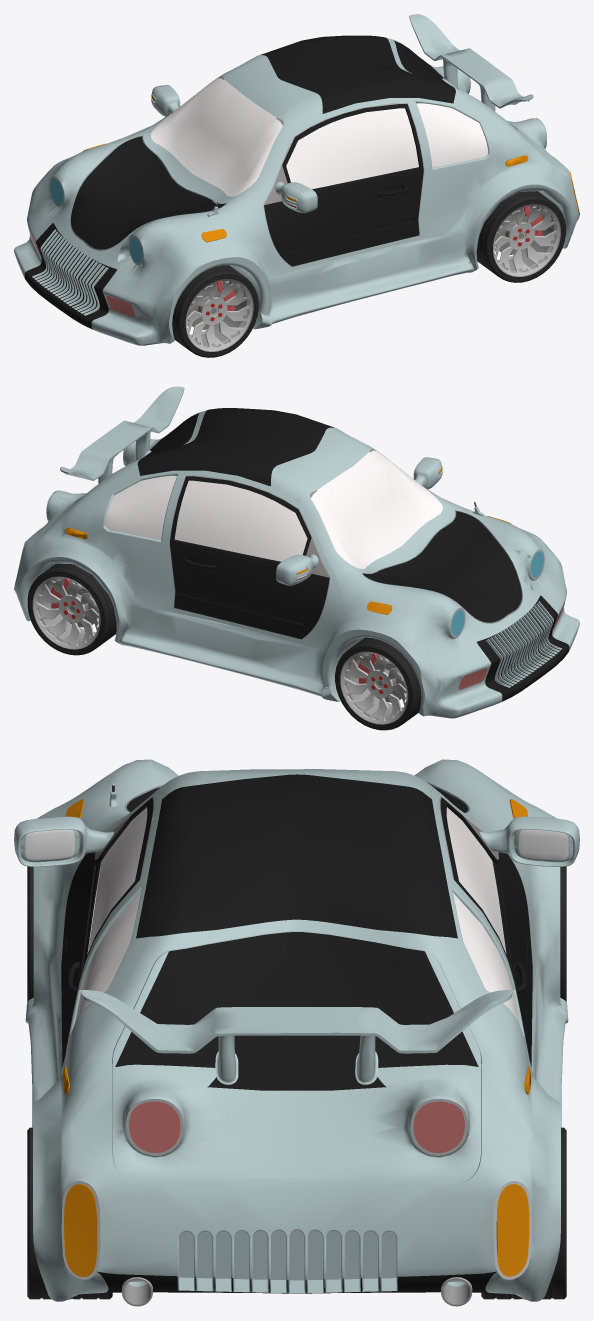
3 views of the same model, one above another, from view 1: azimuth 30°, elevation 25°; view 2: azimuth 150°, elevation 25°; view 3: azimuth 270°, elevation 25° (orthographic). The views are drawn at different scales.
Visible parts, largest first — view 1: Mesh_10.001_LOD_3, door left:1.001_LOD_3, whell v7:2.001_LOD_3, whell v7:1.001_LOD_3, door left(Symétrie miroir):1.001_LOD_3; view 2: Mesh_10.001_LOD_3, door left:1.001_LOD_3, door left(Symétrie miroir):1.001_LOD_3, whell v6(Symétrie miroir):2.001_LOD_3, whell v6(Symétrie miroir):1.001_LOD_3; view 3: Mesh_10.001_LOD_3, door left:1.001_LOD_3, door left(Symétrie miroir):1.001_LOD_3, whell v7:2.001_LOD_3, whell v6(Symétrie miroir):2.001_LOD_3, whell v6(Symétrie miroir):1.001_LOD_3, whell v7:1.001_LOD_3.
Part boxes in pixels (x1,y1,x2,y2): Mesh_10.001_LOD_3: (14, 14, 579, 345); door left:1.001_LOD_3: (263, 103, 424, 267); whell v7:2.001_LOD_3: (476, 191, 565, 282); whell v7:1.001_LOD_3: (172, 265, 258, 357); door left(Symétrie miroir):1.001_LOD_3: (151, 84, 180, 116); Mesh_10.001_LOD_3: (14, 386, 579, 718); door left:1.001_LOD_3: (170, 457, 442, 639); door left(Symétrie miroir):1.001_LOD_3: (169, 475, 330, 639); whell v6(Symétrie miroir):2.001_LOD_3: (27, 563, 116, 655); whell v6(Symétrie miroir):1.001_LOD_3: (335, 637, 421, 730); Mesh_10.001_LOD_3: (25, 759, 568, 1306); door left:1.001_LOD_3: (14, 796, 532, 1067); door left(Symétrie miroir):1.001_LOD_3: (439, 796, 579, 970); whell v7:2.001_LOD_3: (27, 1127, 112, 1299); whell v6(Symétrie miroir):2.001_LOD_3: (481, 1127, 566, 1299); whell v6(Symétrie miroir):1.001_LOD_3: (560, 866, 566, 1001); whell v7:1.001_LOD_3: (27, 866, 33, 1001).
Bounding box in the file's own units: 0.1643 × 0.0655 × 0.0922.
